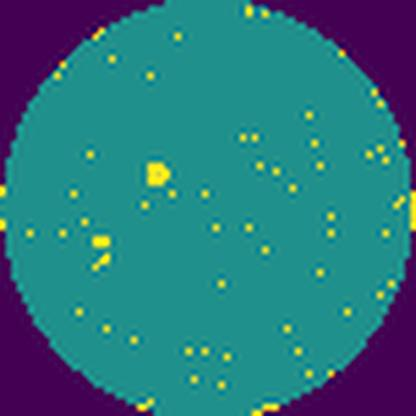Loc: (144, 156, 168, 191)
